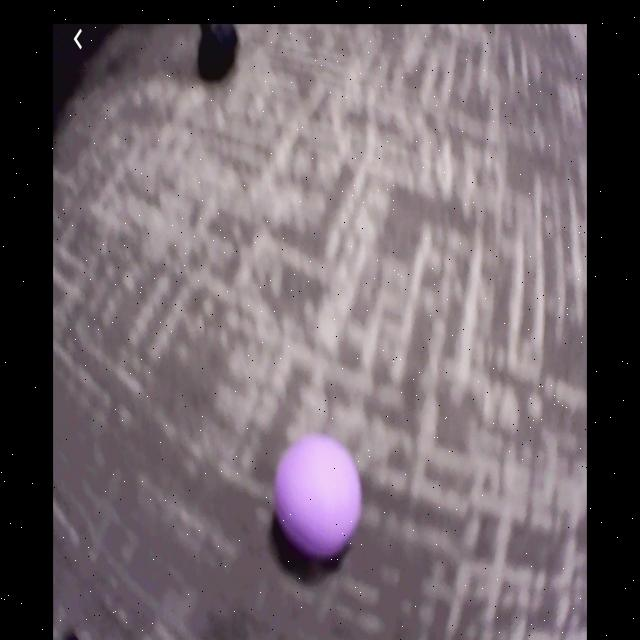ball: (276, 434, 362, 560)
